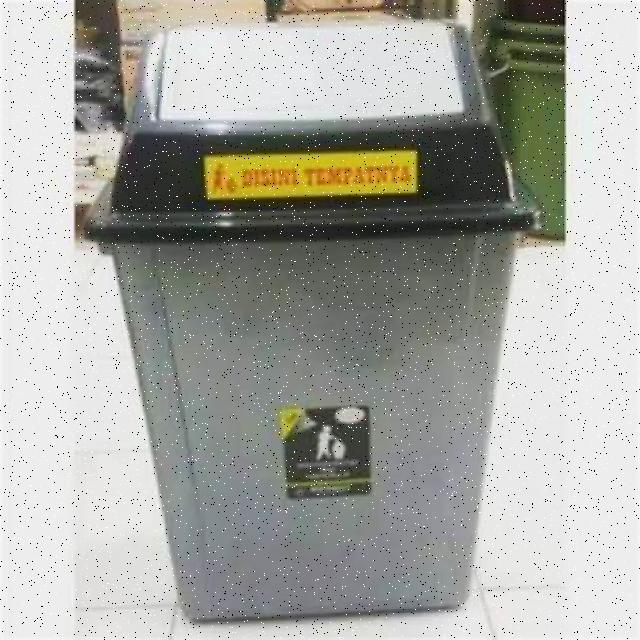garbage container: (73, 6, 605, 623)
